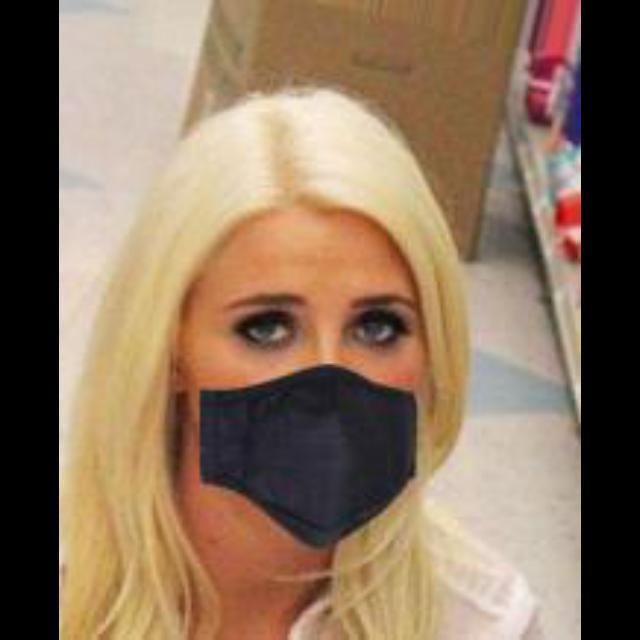1_mascarilla: (196, 365, 417, 544)
